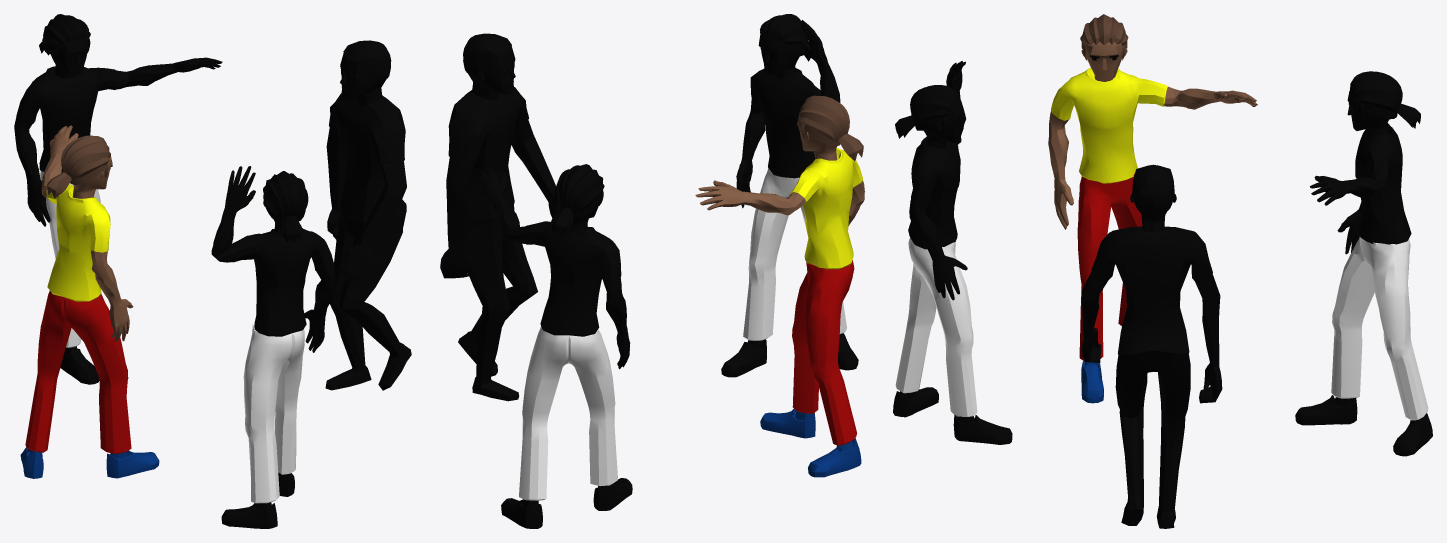
The model's file is crowd talking.fbx.
3 renders of one model, left to right at view 1: azimuth 30°, elevation 25°; view 2: azimuth 150°, elevation 25°; view 3: azimuth 270°, elevation 25°, orthographic. The views are drawn at different scales.
Parts seen in each view (by area): view 1: model1:model1:talking_crowd; view 2: model1:model1:talking_crowd; view 3: model1:model1:talking_crowd.
Part boxes in pixels (<box>): model1:model1:talking_crowd: <box>14,14,411,528</box>; model1:model1:talking_crowd: <box>440,14,864,528</box>; model1:model1:talking_crowd: <box>893,14,1432,528</box>.
Size of the model in its own units: 561 by 473 by 647.
Materials: 16 (1 with a texture image).
